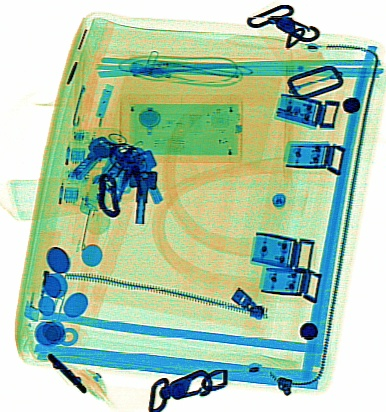lighter: (20, 228, 60, 320)
